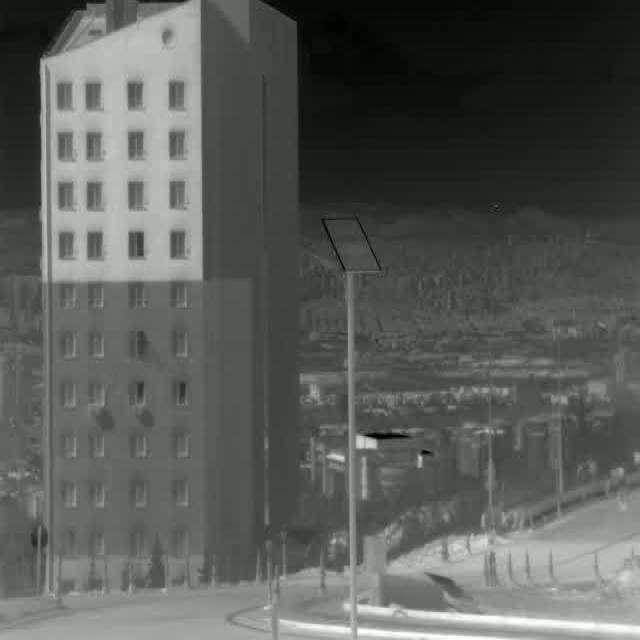Motorcycle: (614, 479, 633, 513)
